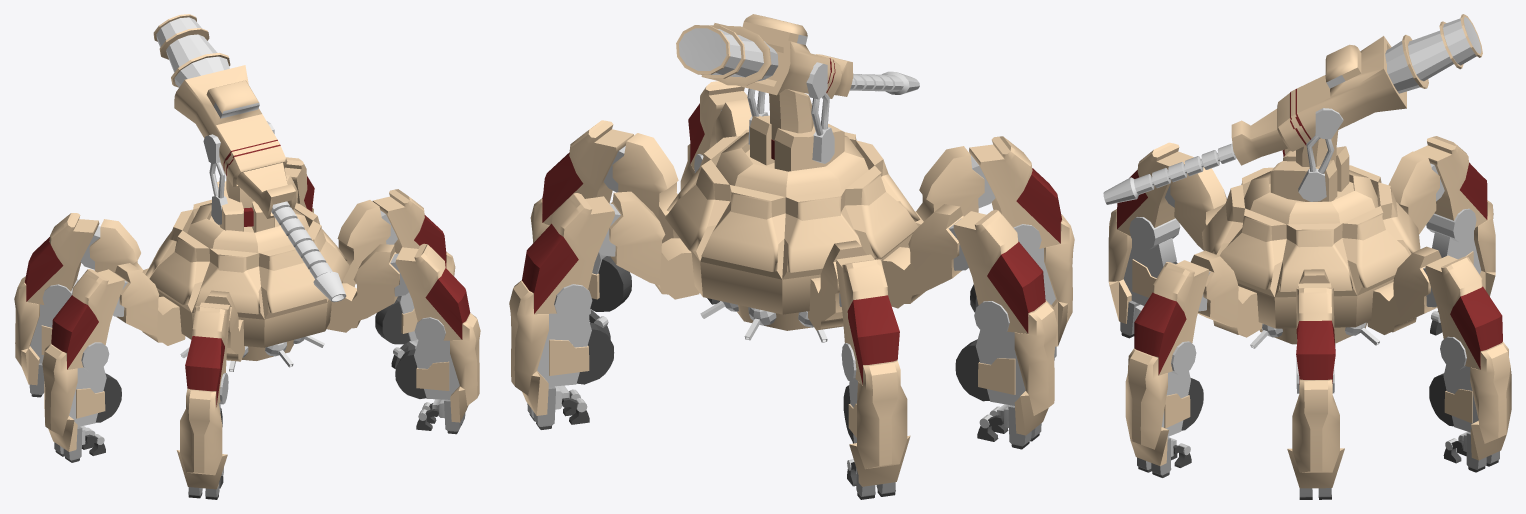
File: Spider_mech_low_new.fbx
The picture shows the model from 3 angles, left to right: view 1: azimuth 30°, elevation 25°; view 2: azimuth 150°, elevation 25°; view 3: azimuth 270°, elevation 25°; orthographic projection. The views are drawn at different scales.
Visible parts, largest first — view 1: Mech_Lib_1 (×6), polySurface2, Cannon_Body, Cannon_Back, Cannon, Cannon_Holder_Base_Foundation, Cannon_Holder_2; view 2: Mech_Lib_1 (×6), polySurface2, Cannon_Back, Cannon_Body, Cannon_Holder_Base_Foundation, Cannon_Holder_2, Cannon_Main_Holder, Cannon, polySurface1; view 3: Mech_Lib_1 (×5), polySurface2, Cannon_Body, Cannon_Back, Cannon, Cannon_Holder_Base_Foundation, Cannon_Holder_1, Cannon_Main_Holder, polySurface1.
Boxes of the visible parts, x1,y1,x2,y2 form: Mech_Lib_1 (×6): (14, 157, 480, 499); polySurface2: (145, 199, 350, 347); Cannon_Body: (174, 65, 296, 218); Cannon_Back: (153, 14, 230, 87); Cannon: (271, 201, 346, 302); Cannon_Holder_Base_Foundation: (217, 181, 274, 232); Cannon_Holder_2: (203, 134, 227, 224); Mech_Lib_1 (×6): (509, 81, 1074, 499); polySurface2: (665, 129, 920, 314); Cannon_Back: (676, 25, 778, 85); Cannon_Body: (701, 14, 853, 98); Cannon_Holder_Base_Foundation: (750, 115, 844, 171); Cannon_Holder_2: (806, 62, 834, 163); Cannon_Main_Holder: (769, 89, 813, 140); Cannon: (850, 71, 919, 94); polySurface1: (737, 305, 812, 330); Mech_Lib_1 (×5): (1108, 136, 1511, 499); polySurface2: (1202, 165, 1420, 328); Cannon_Body: (1231, 36, 1406, 165); Cannon_Back: (1385, 14, 1482, 93); Cannon: (1103, 143, 1236, 204); Cannon_Holder_Base_Foundation: (1270, 146, 1349, 201); Cannon_Holder_1: (1298, 108, 1343, 201); Cannon_Main_Holder: (1296, 130, 1338, 166); polySurface1: (1259, 322, 1367, 344).
Size of the model in its own units: 3052 by 2454 by 2381.
